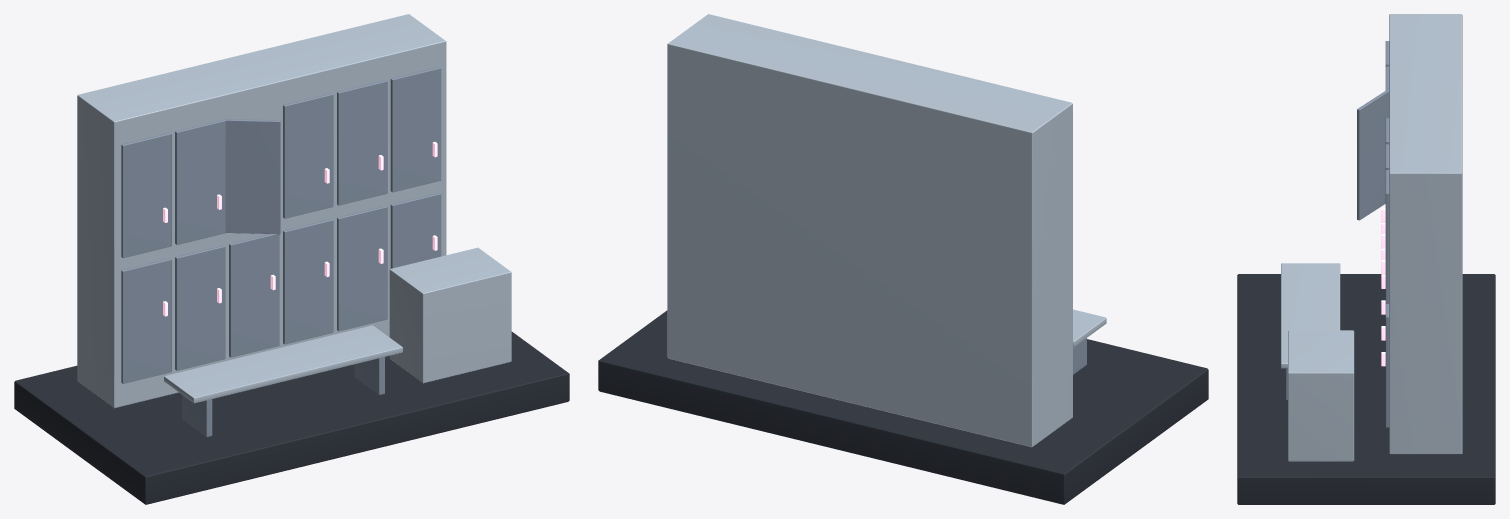
Rendered from webtoon-prop-academy-locker-shoebox-bank-v31.glb.
3 renders of one model, left to right at view 1: azimuth 30°, elevation 25°; view 2: azimuth 150°, elevation 25°; view 3: azimuth 270°, elevation 25°, orthographic. The views are drawn at different scales.
Parts seen in each view (by area): view 1: PropV31_V31Prop1_AcademyLocker_HardwareTrim, PropV31_V31Prop1_AcademyLocker_MainChassis, PropV31_V31Prop1_AcademyLocker_DatumDeck, PropV31_V31Prop1_AcademyLocker_NarrativeClue; view 2: PropV31_V31Prop1_AcademyLocker_MainChassis, PropV31_V31Prop1_AcademyLocker_DatumDeck; view 3: PropV31_V31Prop1_AcademyLocker_MainChassis, PropV31_V31Prop1_AcademyLocker_DatumDeck, PropV31_V31Prop1_AcademyLocker_HardwareTrim, PropV31_V31Prop1_AcademyLocker_NarrativeClue.
Boxes of the visible parts, left/top/right/bottom form: PropV31_V31Prop1_AcademyLocker_HardwareTrim: left=121, top=67, right=441, bottom=436; PropV31_V31Prop1_AcademyLocker_MainChassis: left=77, top=14, right=511, bottom=408; PropV31_V31Prop1_AcademyLocker_DatumDeck: left=14, top=331, right=569, bottom=504; PropV31_V31Prop1_AcademyLocker_NarrativeClue: left=163, top=142, right=437, bottom=316; PropV31_V31Prop1_AcademyLocker_MainChassis: left=667, top=14, right=1106, bottom=447; PropV31_V31Prop1_AcademyLocker_DatumDeck: left=598, top=310, right=1208, bottom=504; PropV31_V31Prop1_AcademyLocker_MainChassis: left=1281, top=14, right=1462, bottom=461; PropV31_V31Prop1_AcademyLocker_DatumDeck: left=1237, top=274, right=1495, bottom=504; PropV31_V31Prop1_AcademyLocker_HardwareTrim: left=1286, top=41, right=1389, bottom=427; PropV31_V31Prop1_AcademyLocker_NarrativeClue: left=1381, top=208, right=1385, bottom=366.
Bounding box in the file's own units: 2.76 × 1.96 × 1.48.
